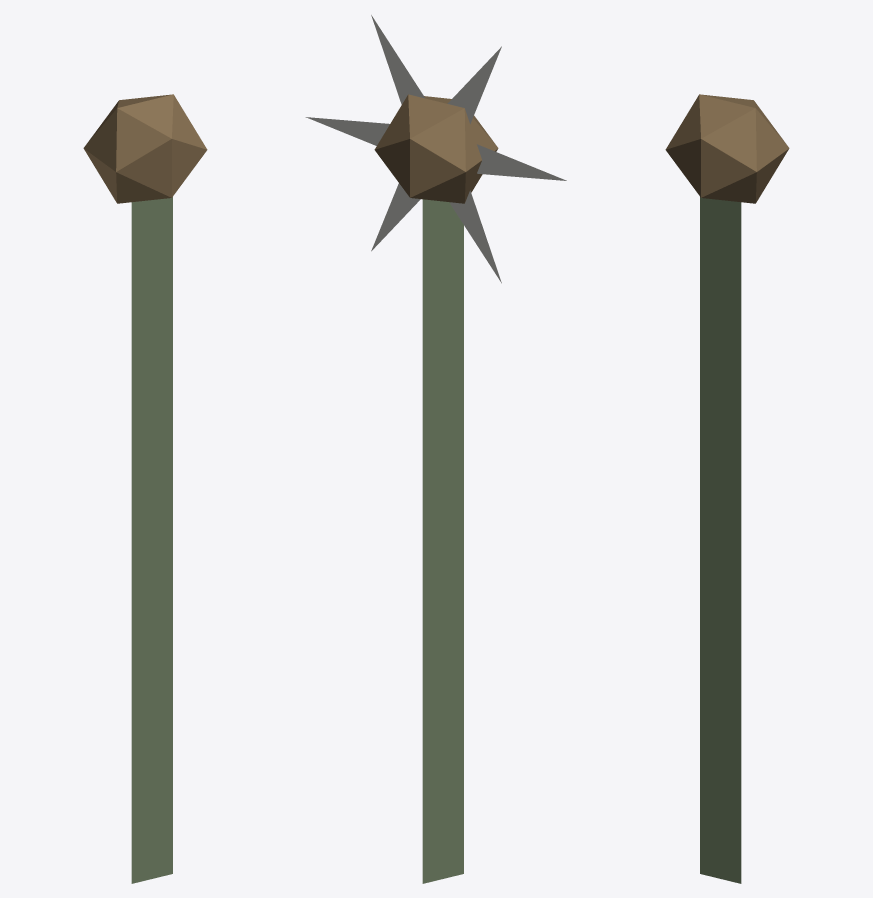
File: fallback_flower_white.glb
The picture shows the model from 3 angles, left to right: view 1: azimuth 30°, elevation 25°; view 2: azimuth 150°, elevation 25°; view 3: azimuth 330°, elevation 25°; orthographic projection.
Parts seen in each view (by area): view 1: world; view 2: world; view 3: world.
Part boxes in pixels (left/top/right/bottom): world: left=83, top=94, right=207, bottom=883; world: left=305, top=15, right=566, bottom=883; world: left=665, top=94, right=789, bottom=883.
Bounding box in the file's own units: 0.22 × 0.6753 × 0.0766.
